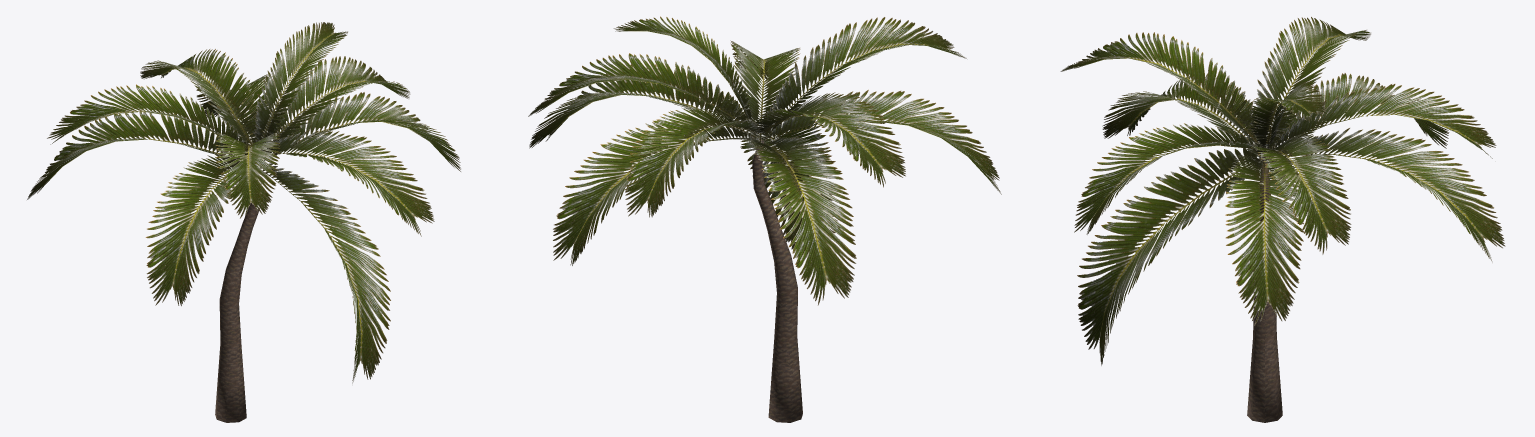
The model's file is tree3.fbx.
3 views of the same model, side by side, from view 1: azimuth 30°, elevation 25°; view 2: azimuth 150°, elevation 25°; view 3: azimuth 270°, elevation 25° (orthographic). The views are drawn at different scales.
Visible parts, largest first — view 1: Cylinder.005; view 2: Cylinder.005; view 3: Cylinder.005.
Part boxes in pixels (x1,y1,x2,y2): Cylinder.005: (27, 22, 460, 422); Cylinder.005: (528, 16, 1001, 422); Cylinder.005: (1060, 17, 1505, 422).
Bounding box in the file's own units: 4351 × 3722 × 4221.
